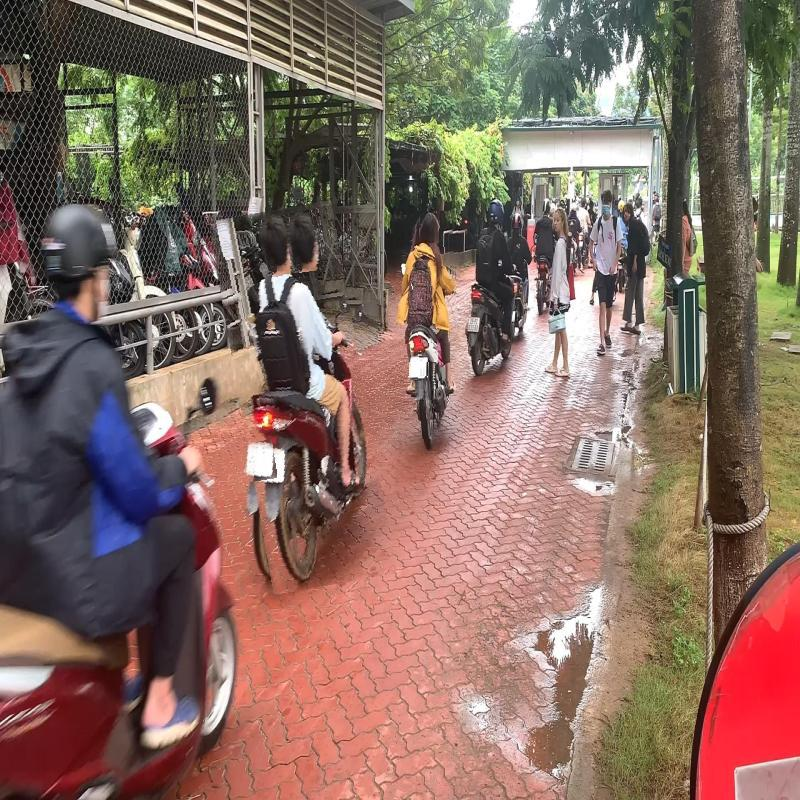licenseplate: (243, 440, 276, 481), (409, 357, 428, 381)
motorcyclist: (224, 204, 381, 590), (392, 212, 461, 454)
nohelmet: (286, 212, 321, 272), (419, 212, 440, 243)
